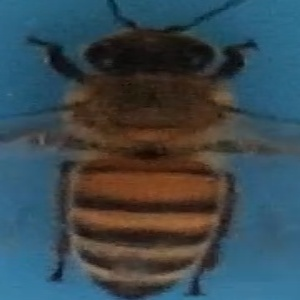bee: (17, 6, 287, 299)
